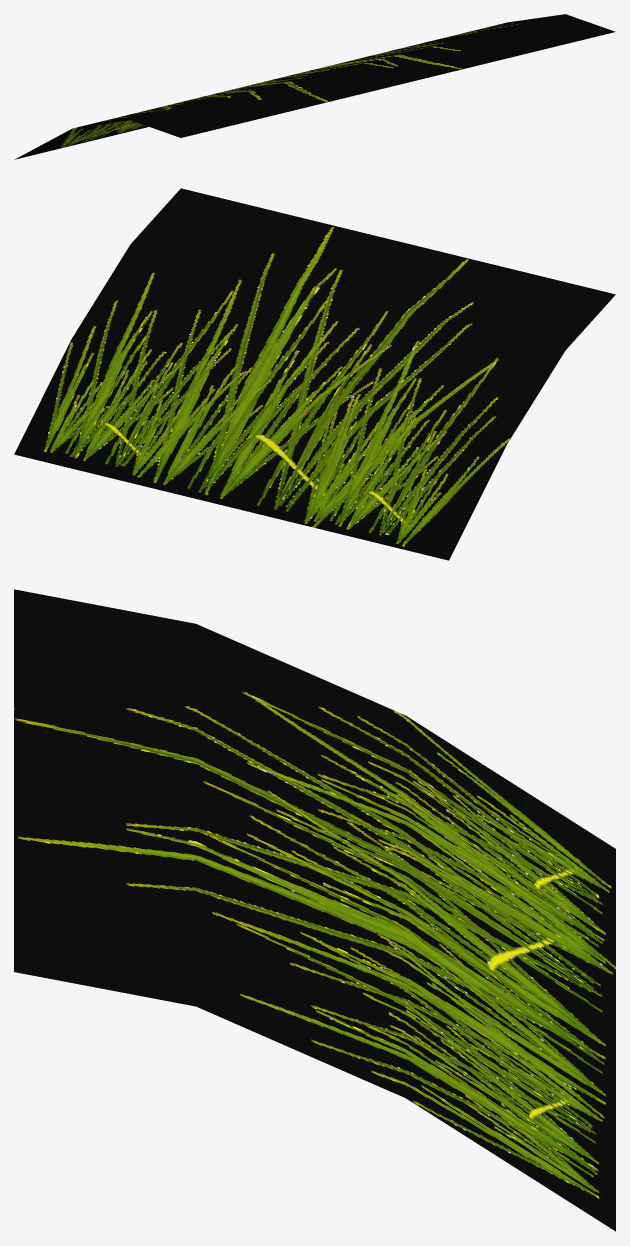
File: anotherTestGrass.fbx
3 views of the same model, one above another, from view 1: azimuth 30°, elevation 25°; view 2: azimuth 150°, elevation 25°; view 3: azimuth 270°, elevation 25° (orthographic). The views are drawn at different scales.
Parts seen in each view (by area): view 1: Plane006; view 2: Plane006; view 3: Plane006.
Boxes of the visible parts, x1,y1,x2,y2 form: Plane006: [14, 14, 615, 159]; Plane006: [14, 188, 615, 560]; Plane006: [14, 589, 615, 1231].
Size of the model in its own units: 16.11 by 10.71 by 5.1.
Materials: 1 (1 with a texture image).
